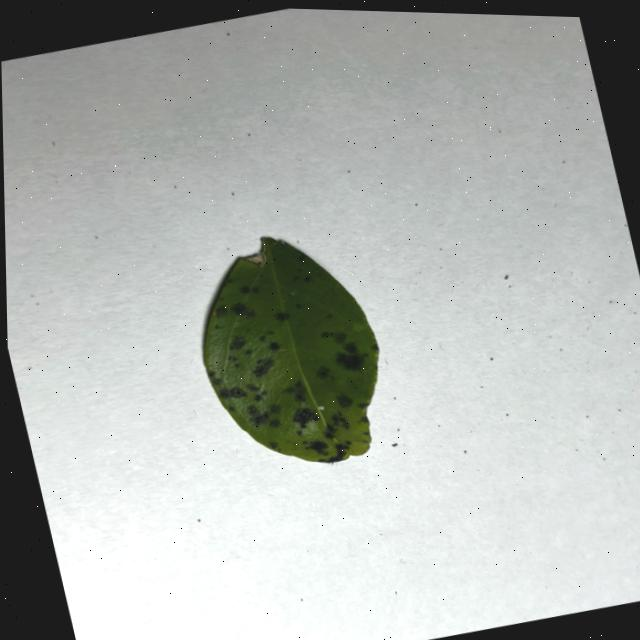sooty_mold: (203, 237, 377, 463)
